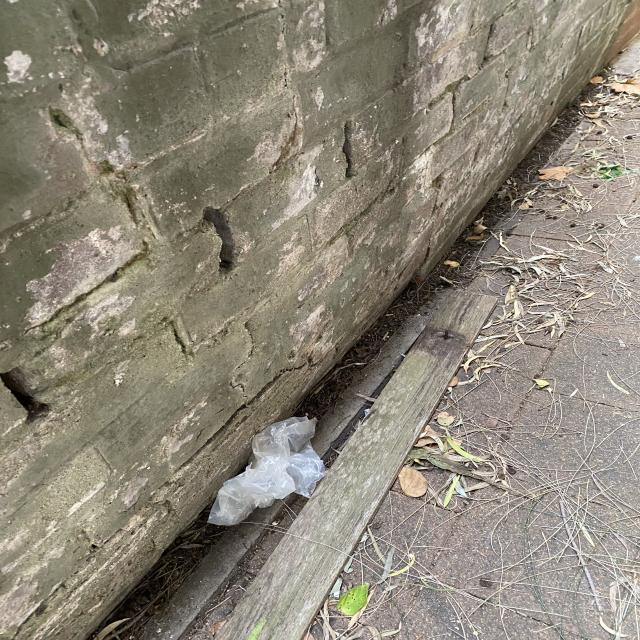bag: (208, 416, 326, 526)
